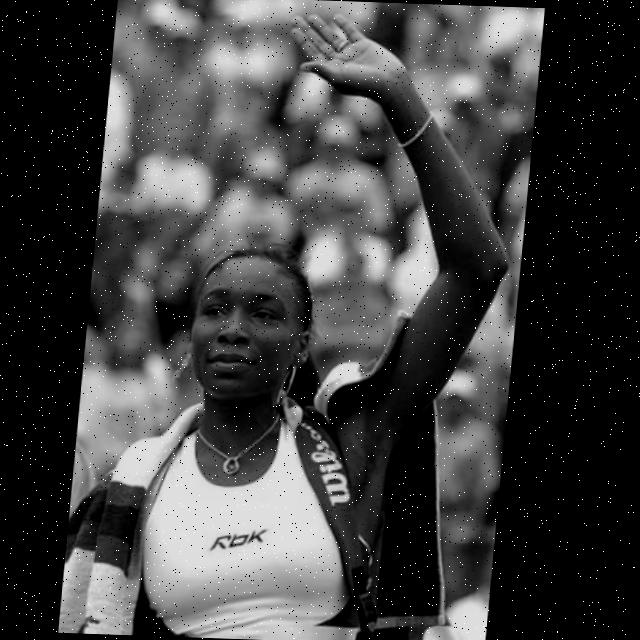face: (176, 241, 333, 421)
